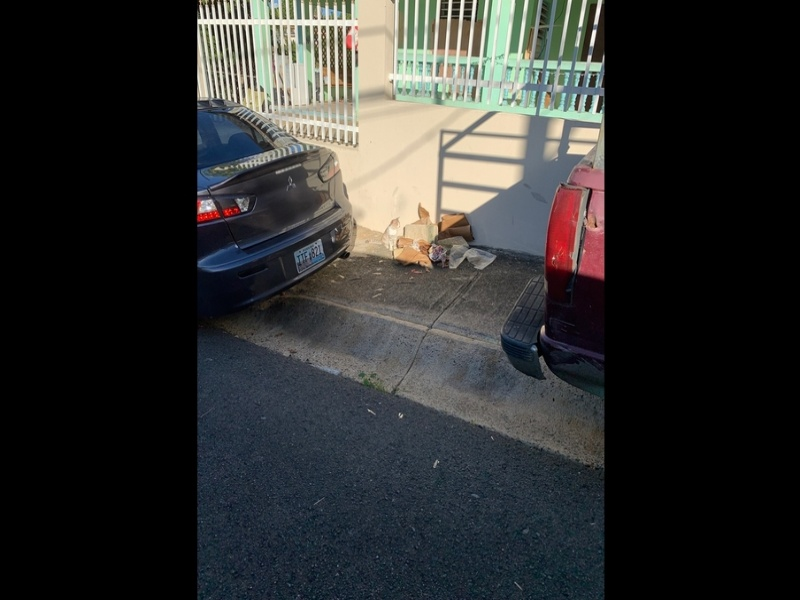cat: (366, 217, 402, 251)
